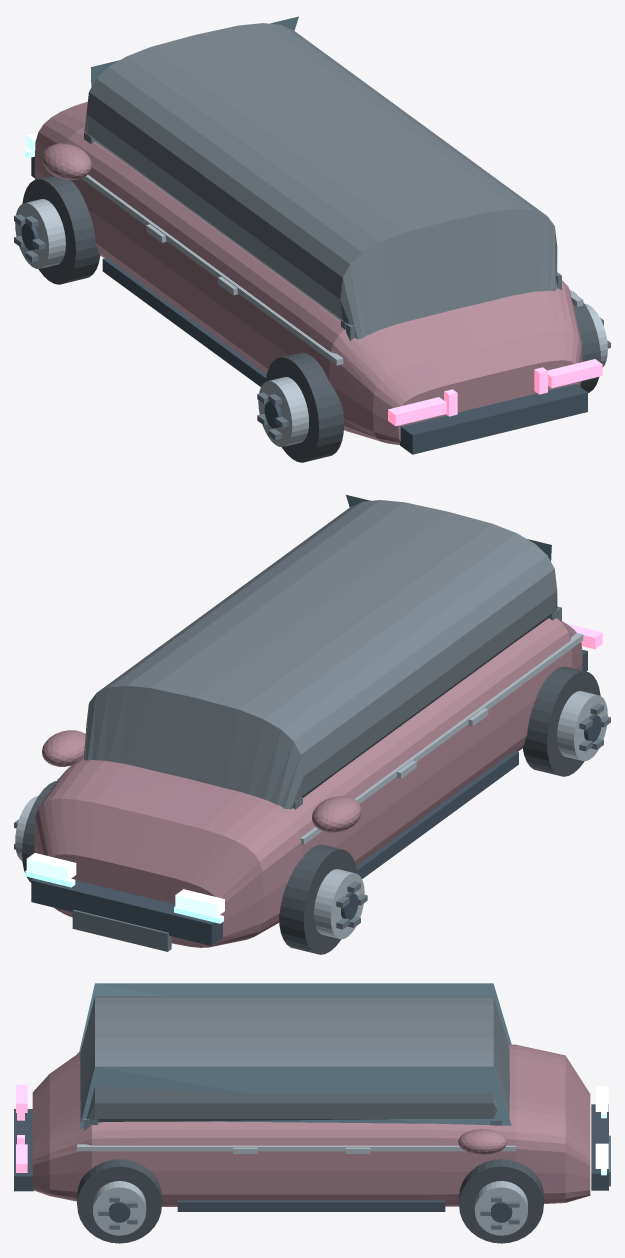
Rendered from delivery_van.glb.
3 renders of one model, top to bottom at view 1: azimuth 30°, elevation 25°; view 2: azimuth 150°, elevation 25°; view 3: azimuth 270°, elevation 25°, orthographic. The views are drawn at different scales.
Visible parts, largest first — view 1: cabin-and-roof, curved-monocoque-shell, rubber, dark, alum, red, frame, burgundy; view 2: cabin-and-roof, curved-monocoque-shell, rubber, dark, alum, frame, burgundy, headlight, neon; view 3: curved-monocoque-shell, cabin-and-roof, glass, rubber, alum, dark, frame, burgundy, red, headlight.
Boxes of the visible parts, <box> form: cabin-and-roof: <box>84,23,557,339</box>; curved-monocoque-shell: <box>34,101,582,444</box>; rubber: <box>22,175,600,462</box>; dark: <box>21,156,587,454</box>; alum: <box>15,174,607,447</box>; red: <box>388,359,602,426</box>; frame: <box>14,132,610,440</box>; burgundy: <box>42,143,91,179</box>; cabin-and-roof: <box>84,500,557,809</box>; curved-monocoque-shell: <box>34,618,582,947</box>; rubber: <box>22,666,600,954</box>; dark: <box>31,649,601,945</box>; alum: <box>15,633,607,939</box>; frame: <box>14,606,610,951</box>; burgundy: <box>42,730,361,832</box>; headlight: <box>26,853,224,916</box>; neon: <box>25,870,223,923</box>; curved-monocoque-shell: <box>32,1044,590,1206</box>; cabin-and-roof: <box>80,996,509,1127</box>; glass: <box>79,983,511,1129</box>; rubber: <box>77,1159,543,1243</box>; alum: <box>77,1052,527,1235</box>; dark: <box>14,1104,608,1222</box>; frame: <box>83,1118,610,1229</box>; burgundy: <box>458,1129,507,1154</box>; red: <box>16,1084,27,1172</box>; headlight: <box>595,1086,608,1168</box>.
Size of the model in its own units: 3.02 by 1.89 by 6.05.
